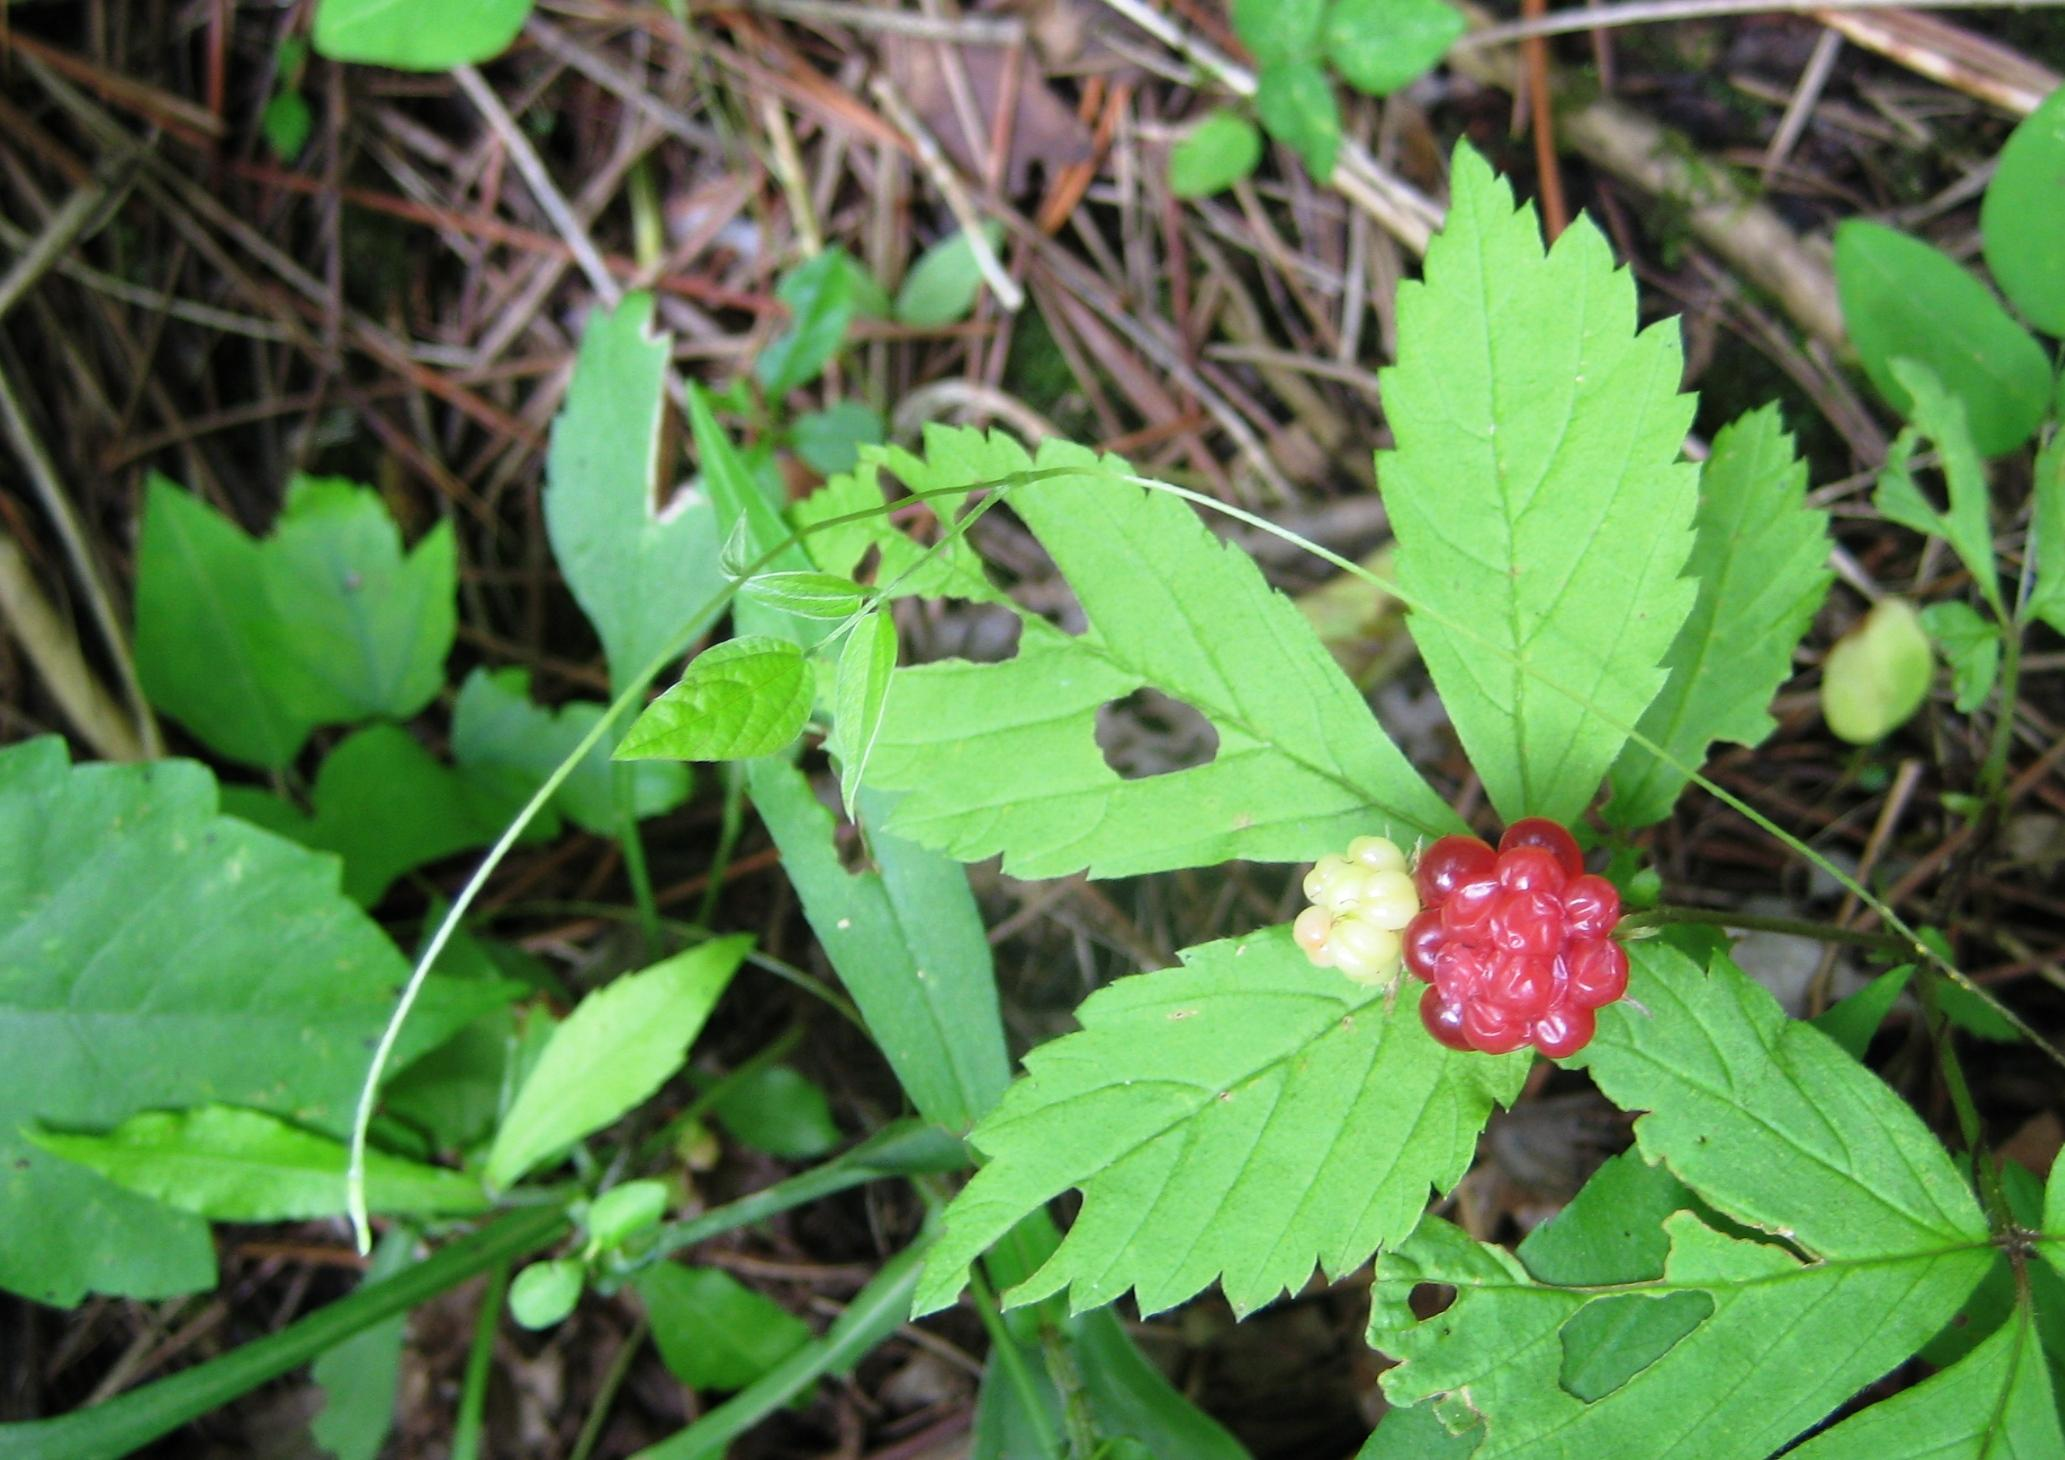Raspberry leaf: (890, 916, 1570, 1330), (1367, 114, 1722, 834)
